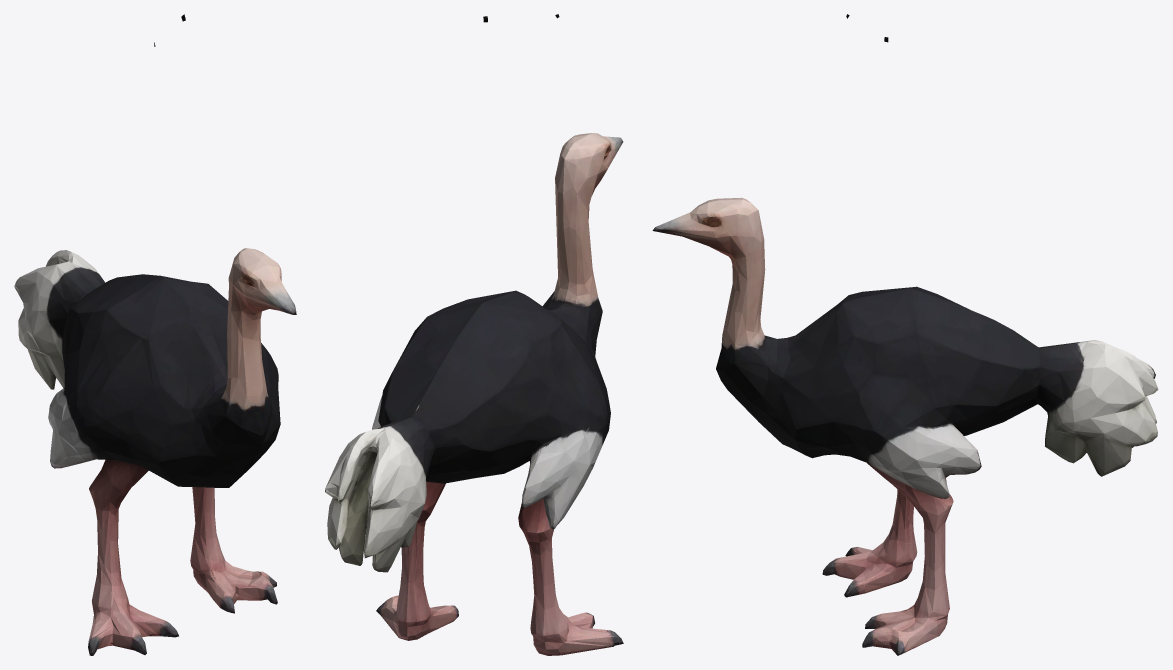
File: ostrich_variant.glb
3 renders of one model, left to right at view 1: azimuth 30°, elevation 25°; view 2: azimuth 150°, elevation 25°; view 3: azimuth 270°, elevation 25°, orthographic. The views are drawn at different scales.
Visible parts, largest first — view 1: world; view 2: world; view 3: world.
Part boxes in pixels (x1,y1,x2,y2): world: (14,14,296,655); world: (325,14,623,655); world: (652,14,1158,655).
Size of the model in its own units: 0.3727 by 0.9988 by 0.7986.
1 material, 1 textured.
